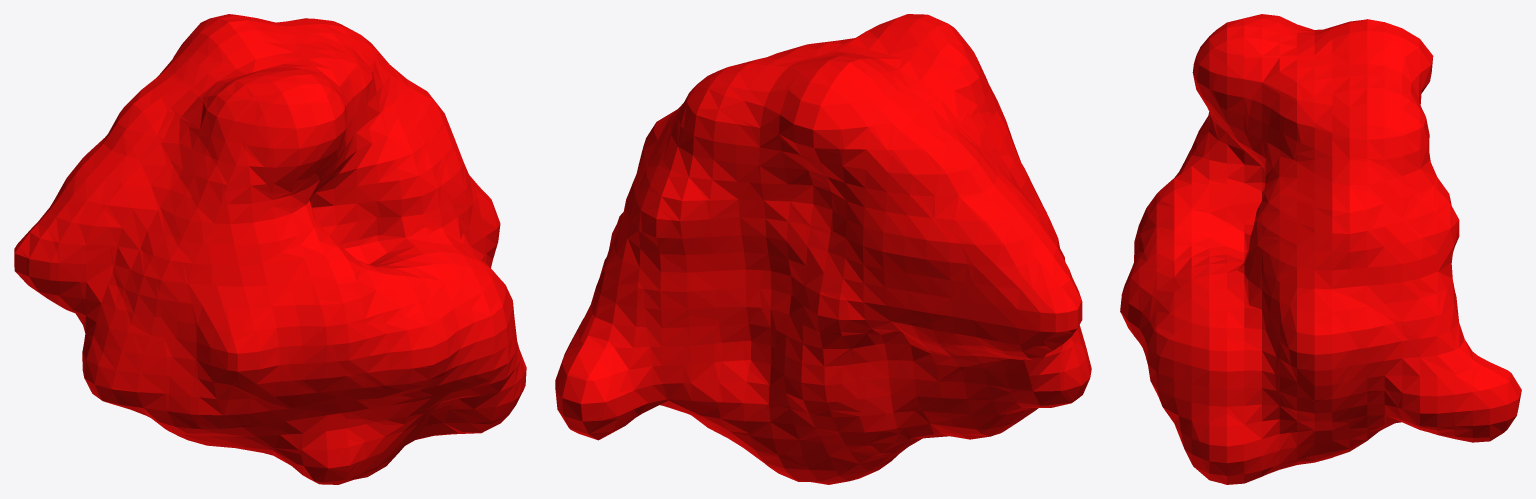
Rendered from glyQ_coarse.dae.
3 renders of one model, left to right at view 1: azimuth 30°, elevation 25°; view 2: azimuth 150°, elevation 25°; view 3: azimuth 270°, elevation 25°, orthographic. The views are drawn at different scales.
Visible parts, largest first — view 1: glyQ; view 2: glyQ; view 3: glyQ.
Boxes of the visible parts, box(x1,y1,x2,y2) form: glyQ: box(14, 14, 526, 484); glyQ: box(555, 14, 1091, 484); glyQ: box(1120, 14, 1521, 484).
Bounding box in the file's own units: 63.19 × 55.76 × 50.38.
